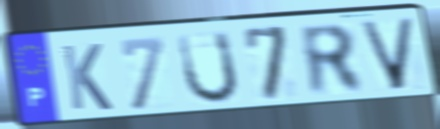7: (239, 25, 292, 105), (117, 34, 169, 112)
K: (58, 41, 115, 113)
R: (296, 22, 369, 99)
U: (175, 29, 241, 107)
V: (356, 16, 419, 94)
